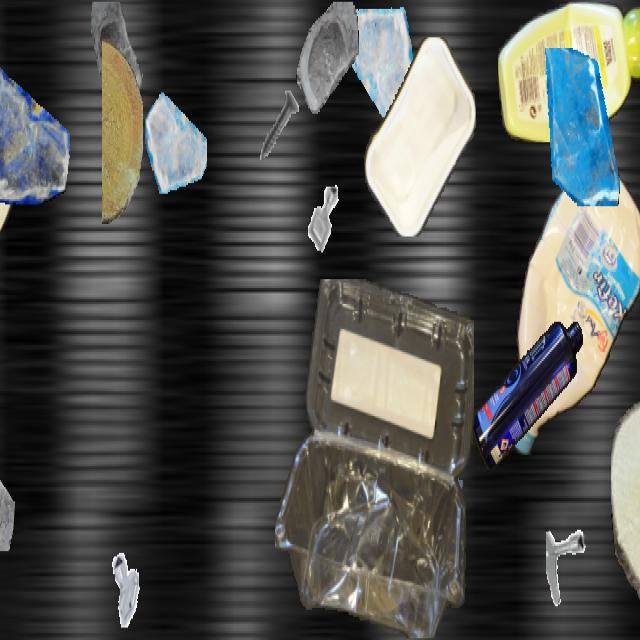glass: (536, 48, 624, 204), (0, 52, 70, 208), (387, 426, 463, 562), (343, 2, 415, 130), (87, 1, 151, 116), (145, 84, 207, 194), (296, 2, 358, 112), (0, 418, 15, 549)
metal: (546, 526, 606, 633), (253, 80, 307, 176), (298, 172, 350, 265), (106, 548, 150, 626)
plastic: (275, 279, 473, 638), (512, 153, 640, 462), (363, 38, 477, 236), (498, 2, 640, 140), (472, 322, 582, 468), (0, 147, 14, 300)
wood: (102, 39, 142, 224), (611, 388, 640, 604)
